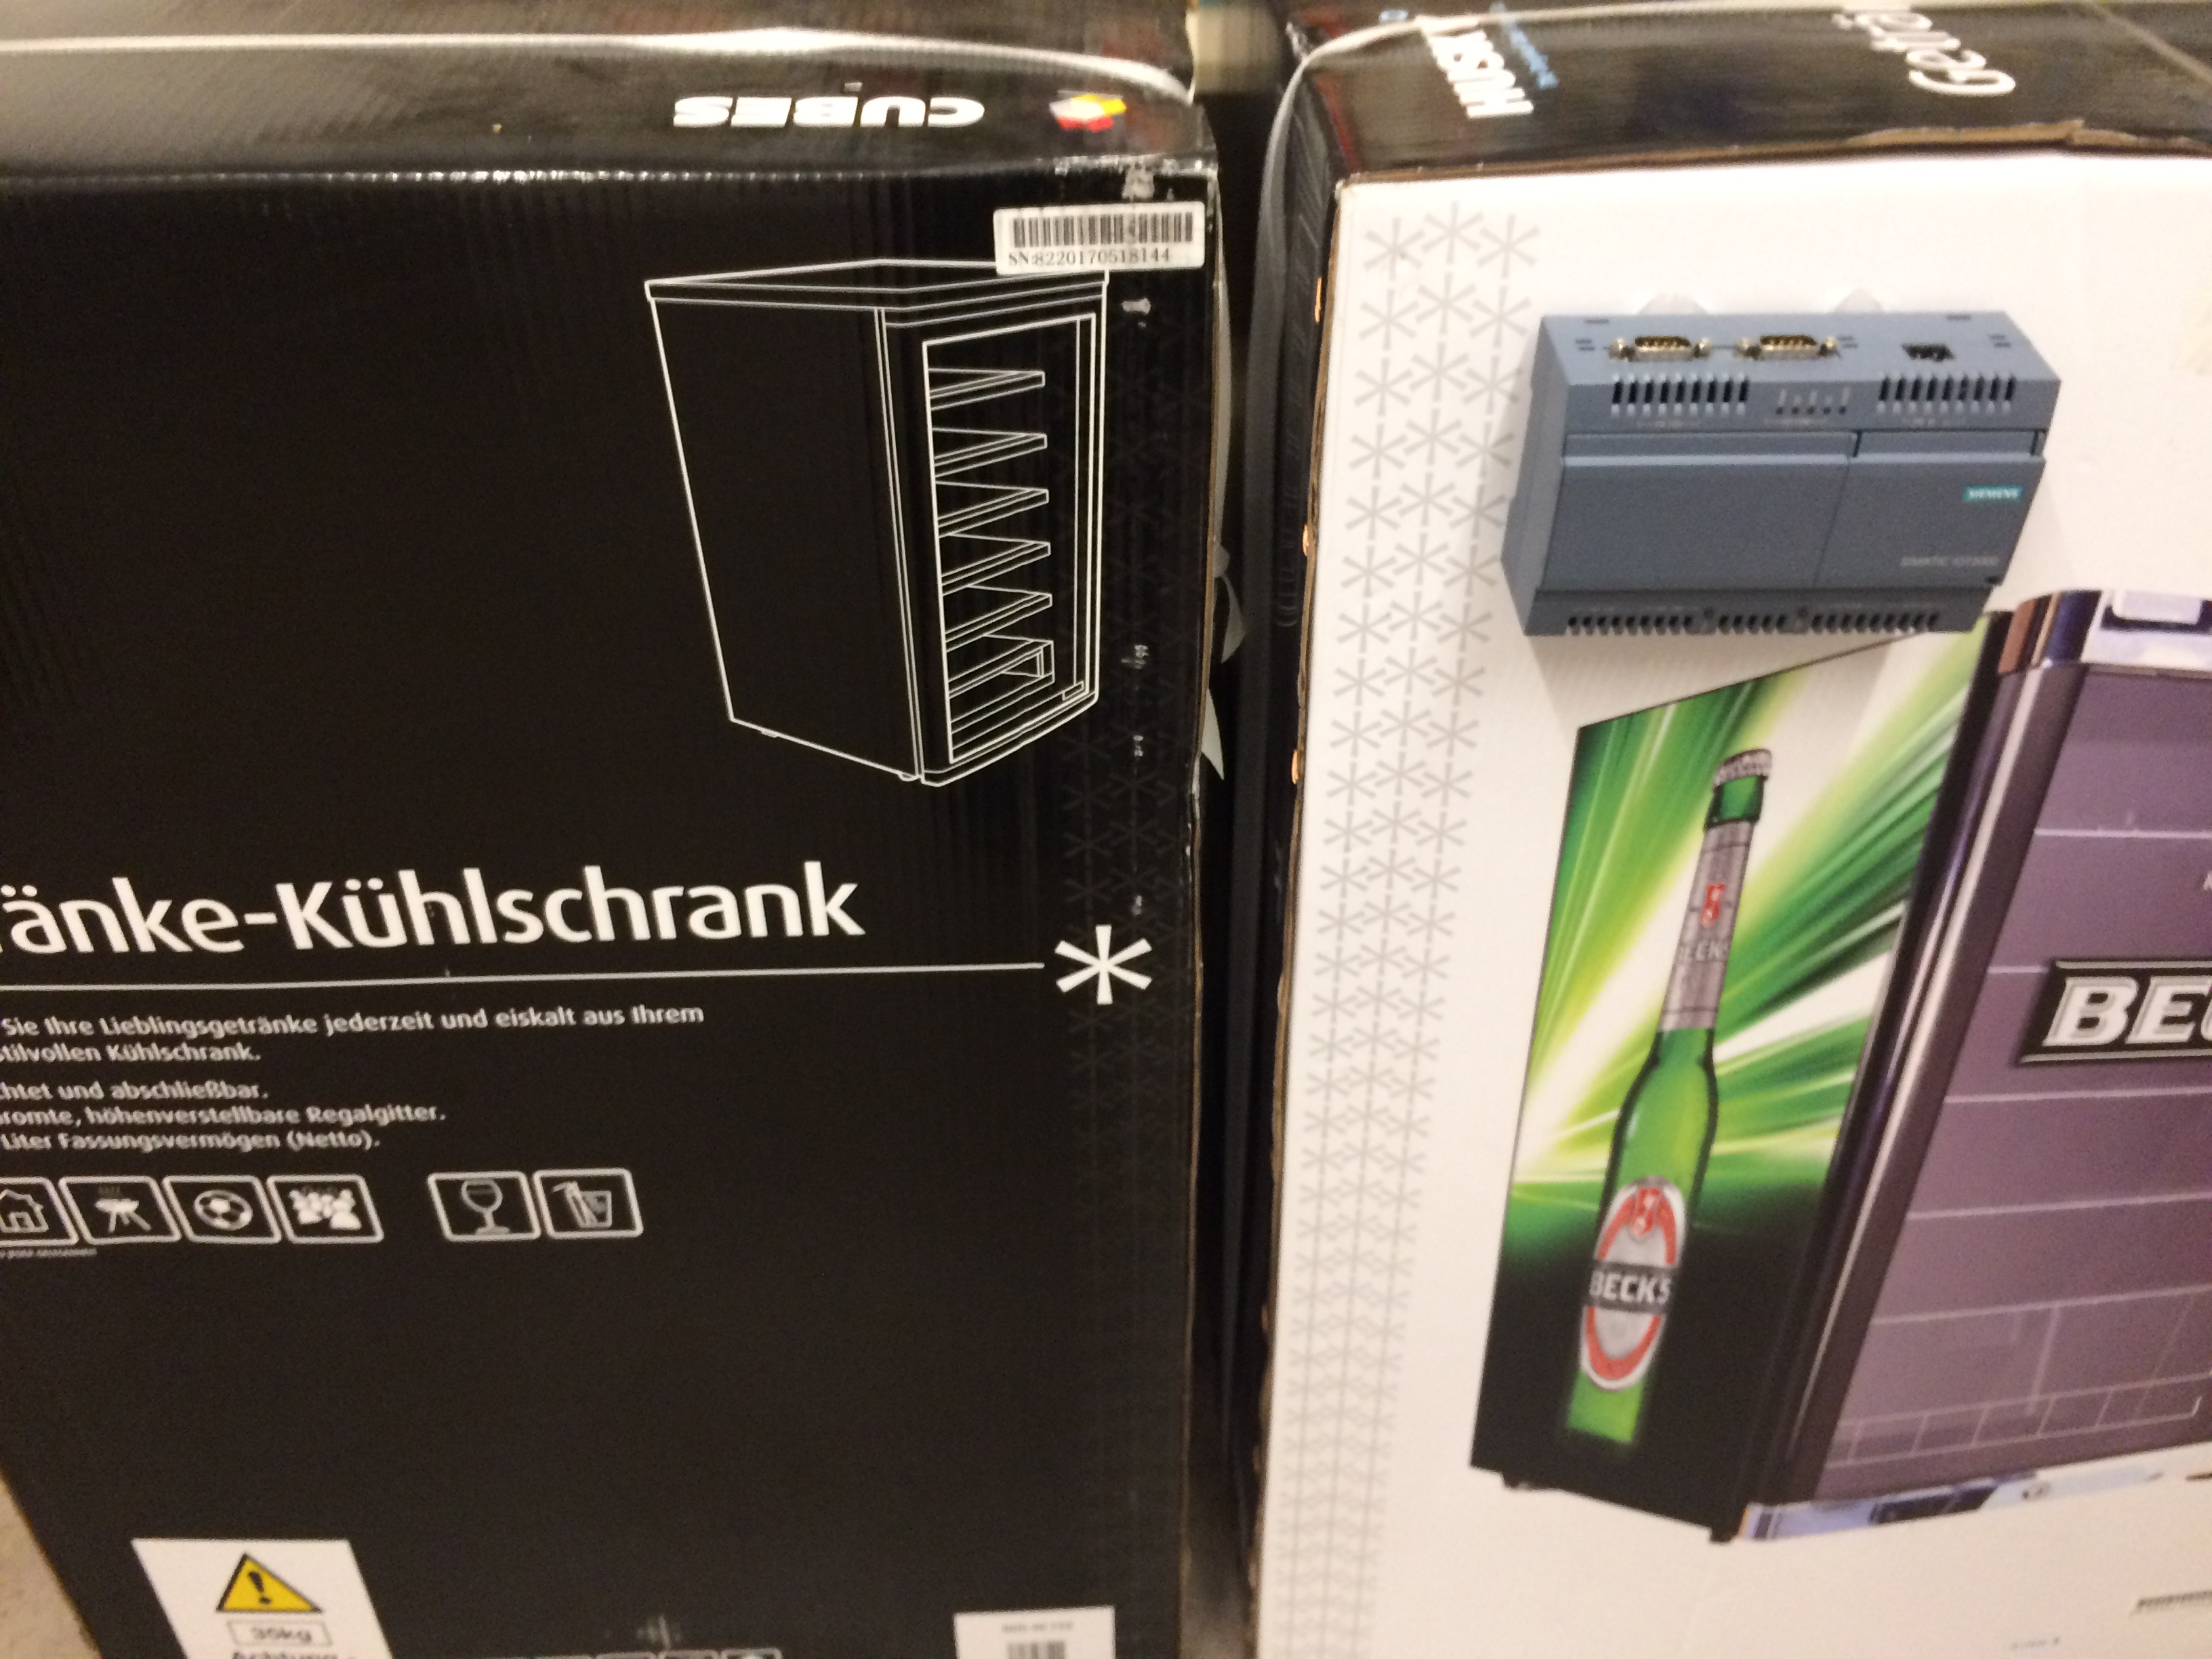iot2000: (1498, 308, 2066, 641)
